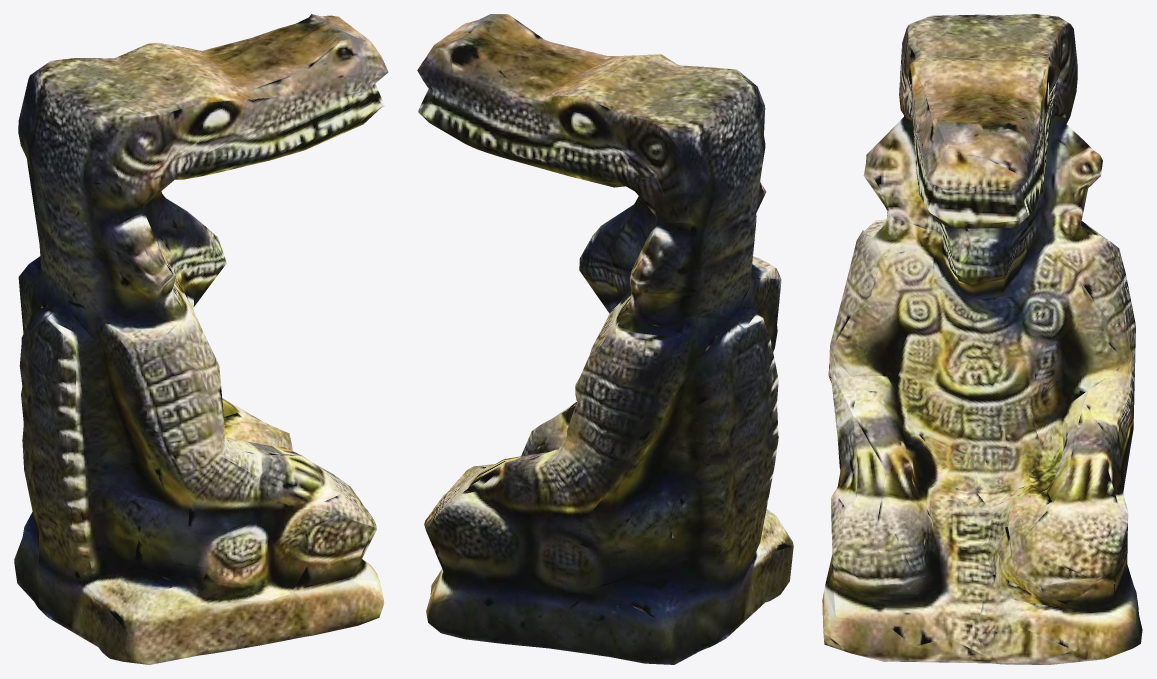
The model's file is croc-statue.lod0.glb.
3 views of the same model, side by side, from view 1: azimuth 30°, elevation 25°; view 2: azimuth 150°, elevation 25°; view 3: azimuth 270°, elevation 25° (orthographic).
Parts seen in each view (by area): view 1: Object_5; view 2: Object_5; view 3: Object_5.
Boxes of the visible parts, x1=… form: Object_5: x1=14, y1=14, x2=388, y2=664; Object_5: x1=417, y1=14, x2=793, y2=664; Object_5: x1=822, y1=14, x2=1142, y2=664.
Bounding box in the file's own units: 1.12 × 1.79 × 0.954.
1 material, 1 textured.
